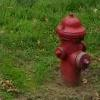a fire hydrant: (54, 16, 89, 84)
